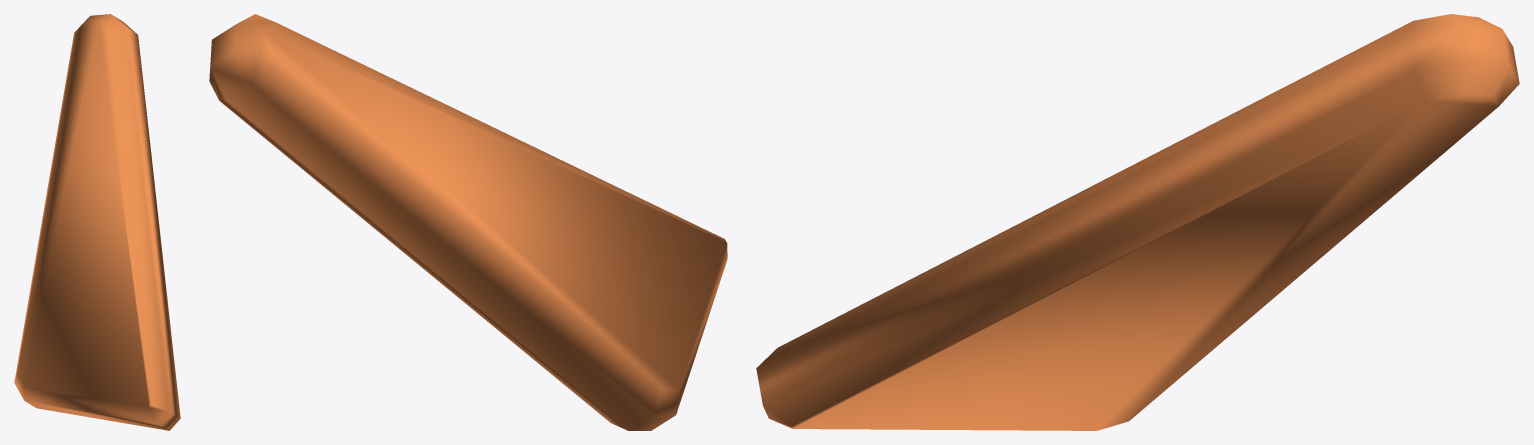
The model's file is drone_2_002.fbx.
3 views of the same model, side by side, from view 1: azimuth 30°, elevation 25°; view 2: azimuth 150°, elevation 25°; view 3: azimuth 270°, elevation 25° (orthographic). The views are drawn at different scales.
Visible parts, largest first — view 1: drone_2_002; view 2: drone_2_002; view 3: drone_2_002.
Boxes of the visible parts, x1,y1,x2,y2 form: drone_2_002: [14, 14, 180, 430]; drone_2_002: [209, 14, 727, 430]; drone_2_002: [756, 14, 1519, 430].
Bounding box in the file's own units: 85.96 × 146 × 117.
